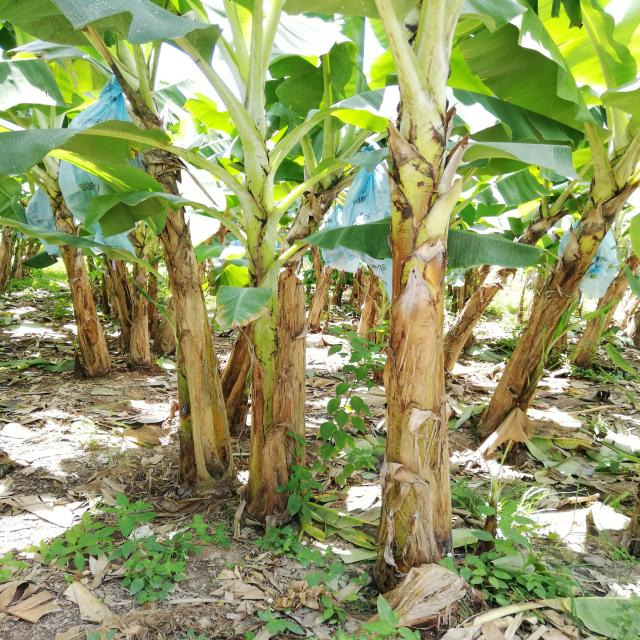Banana-plant: (349, 46, 464, 594), (188, 100, 330, 532), (471, 174, 640, 446), (120, 94, 233, 482), (23, 139, 112, 378)
